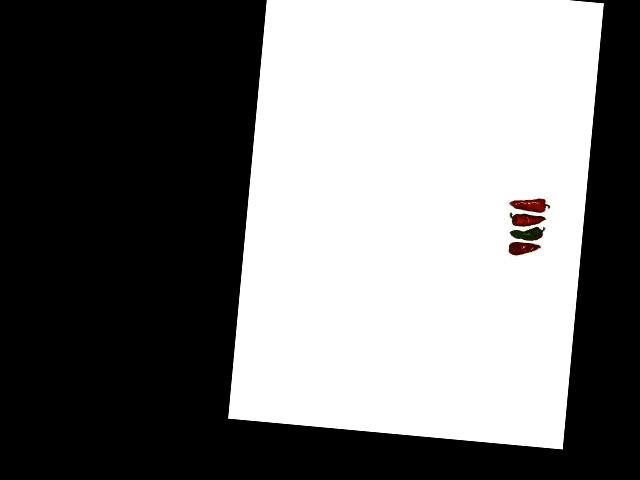bell_pepper: (506, 240, 544, 261)
